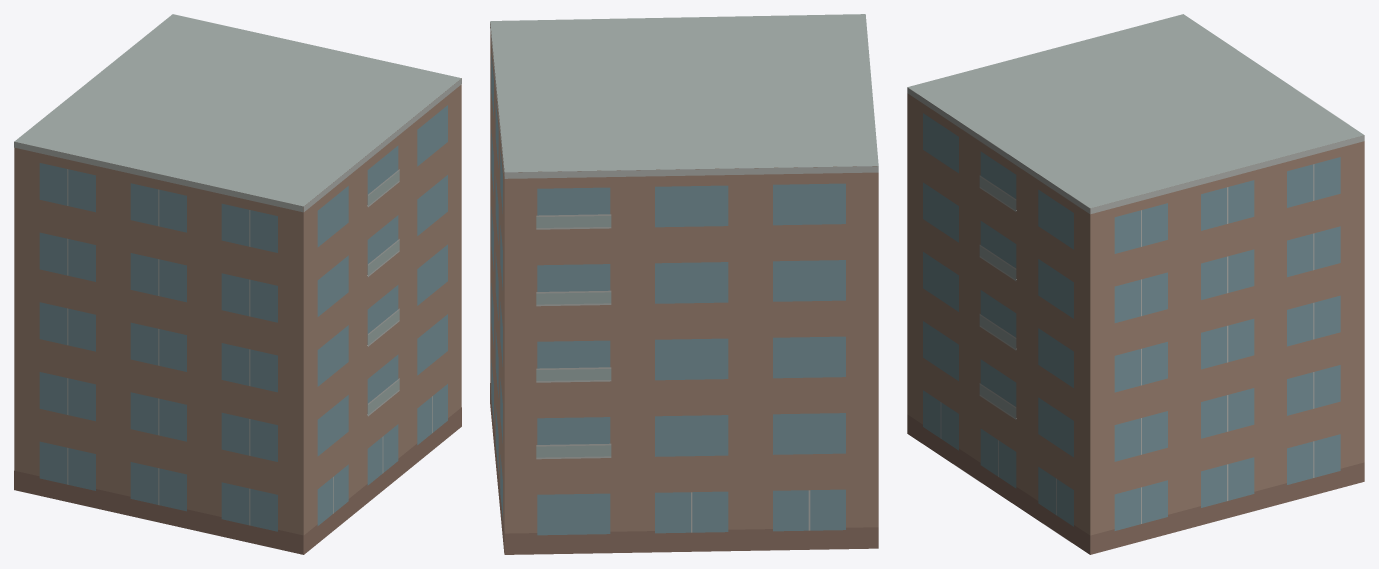
The model's file is survey-upis-32869012.glb.
The picture shows the model from 3 angles, left to right: view 1: azimuth 30°, elevation 25°; view 2: azimuth 150°, elevation 25°; view 3: azimuth 270°, elevation 25°; orthographic projection. The views are drawn at different scales.
Parts seen in each view (by area): view 1: survey-upis-32869012.tmp; view 2: survey-upis-32869012.tmp; view 3: survey-upis-32869012.tmp.
Boxes of the visible parts, x1,y1,x2,y2 form: survey-upis-32869012.tmp: (14, 14, 461, 554); survey-upis-32869012.tmp: (490, 14, 878, 554); survey-upis-32869012.tmp: (907, 14, 1364, 554).
Size of the model in its own units: 17.22 by 14.3 by 17.12.
